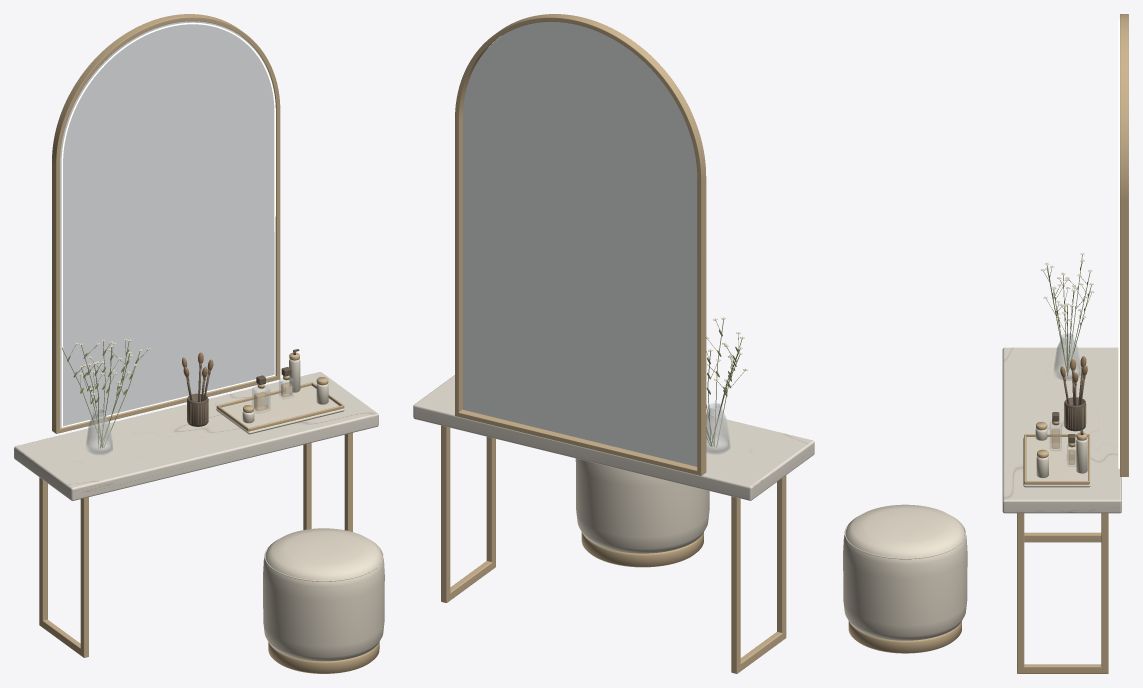
File: woobi_vanity.glb
3 renders of one model, left to right at view 1: azimuth 30°, elevation 25°; view 2: azimuth 150°, elevation 25°; view 3: azimuth 270°, elevation 25°, orthographic. The views are drawn at different scales.
Parts seen in each view (by area): view 1: Mirror_Surface, Vanity_Top, Bench_Seat, Mirror_Frame, Accessories_Tray, Mirror_Illuminated_Edge, Flower_Vase_Muted, Bench_Base, Leg_-1_-0.175, Leg_-1_0.15, Vase_Glass, Brush_Set_Warm (+2 smaller); view 2: Mirror_Surface, Vanity_Top, Mirror_Frame, Bench_Seat, Leg_-1_0.15, Leg_1_0.15, Bench_Base, Leg_-1_-0.175, Leg_1_-0.175, Vase_Glass, Flower_Vase_Muted, Foot_Bridge_1 (+1 smaller); view 3: Bench_Seat, Vanity_Top, Mirror_Frame, Accessories_Tray, Bench_Base, Leg_1_0.15, Leg_1_-0.175, Flower_Vase_Muted, Brush_Set_Warm, Mirror_Illuminated_Edge, Vase_Glass, Foot_Bridge_1 (+1 smaller).
Boxes of the visible parts, box(x1,y1,x2,y2) form: Mirror_Surface: box(60, 21, 274, 428); Vanity_Top: box(14, 372, 378, 500); Bench_Seat: box(263, 528, 384, 661); Mirror_Frame: box(52, 14, 280, 433); Accessories_Tray: box(216, 385, 344, 434); Mirror_Illuminated_Edge: box(61, 22, 275, 427); Flower_Vase_Muted: box(62, 341, 147, 448); Bench_Base: box(268, 642, 379, 673); Leg_-1_-0.175: box(80, 497, 88, 657); Leg_-1_0.15: box(39, 477, 47, 625); Vase_Glass: box(86, 408, 112, 454); Brush_Set_Warm: box(186, 368, 209, 426); Mirror_Surface: box(463, 22, 697, 466); Vanity_Top: box(413, 375, 814, 500); Mirror_Frame: box(455, 14, 706, 475); Bench_Seat: box(575, 458, 709, 553); Leg_-1_0.15: box(731, 496, 740, 673); Leg_1_0.15: box(441, 425, 450, 602); Bench_Base: box(581, 532, 703, 567); Leg_-1_-0.175: box(777, 475, 786, 633); Leg_1_-0.175: box(486, 437, 495, 568); Vase_Glass: box(706, 403, 729, 454); Flower_Vase_Muted: box(706, 319, 744, 447); Foot_Bridge_1: box(441, 560, 495, 602); Bench_Seat: box(843, 504, 967, 640); Vanity_Top: box(1002, 347, 1121, 513); Mirror_Frame: box(1120, 14, 1128, 476); Accessories_Tray: box(1023, 437, 1090, 487); Bench_Base: box(848, 621, 961, 653); Leg_1_0.15: box(1101, 513, 1108, 673); Leg_1_-0.175: box(1017, 513, 1024, 673); Flower_Vase_Muted: box(1043, 255, 1091, 376); Brush_Set_Warm: box(1063, 372, 1085, 431); Mirror_Illuminated_Edge: box(1118, 20, 1119, 468); Vase_Glass: box(1053, 333, 1080, 380); Foot_Bridge_1: box(1017, 664, 1107, 673).
Size of the model in its own units: 1.4 by 2.47 by 1.1.
13 materials, 1 textured.
